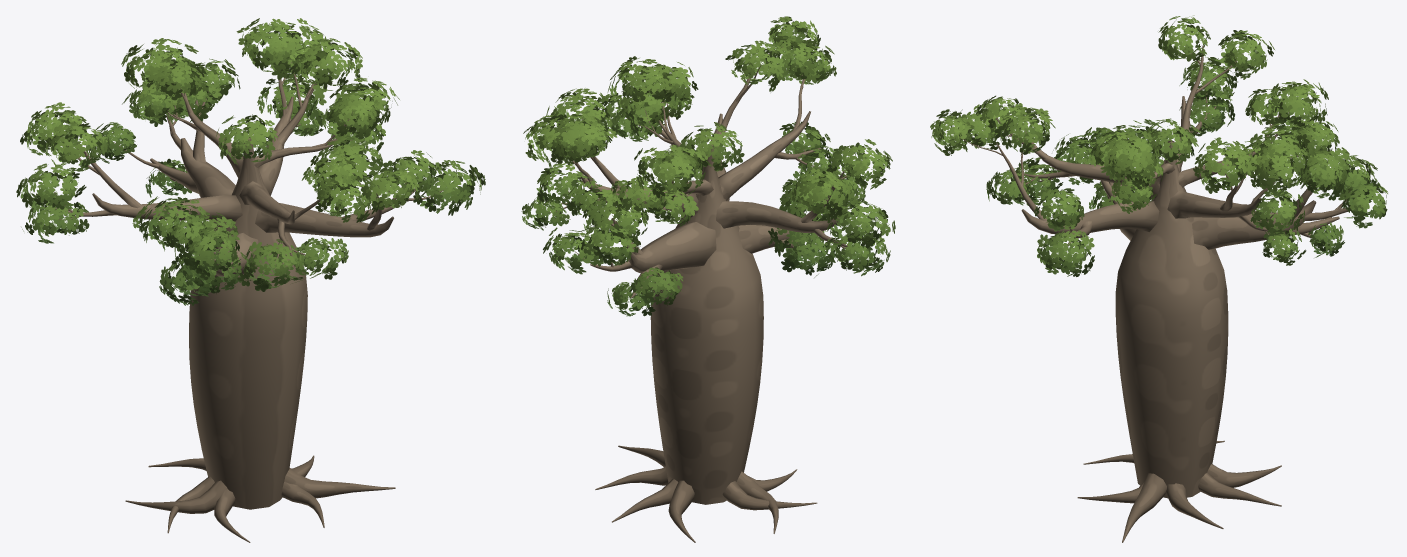
File: tree.gltf
3 views of the same model, side by side, from view 1: azimuth 30°, elevation 25°; view 2: azimuth 150°, elevation 25°; view 3: azimuth 270°, elevation 25° (orthographic). The views are drawn at different scales.
Visible parts, largest first — view 1: Tree_LOD0; view 2: Tree_LOD0; view 3: Tree_LOD0.
Part boxes in pixels (<box>): Tree_LOD0: <box>16,18,485,542</box>; Tree_LOD0: <box>521,16,895,542</box>; Tree_LOD0: <box>930,15,1387,542</box>.
Size of the model in its own units: 22.91 by 23.52 by 24.88.
Materials: 2 (2 with a texture image).
